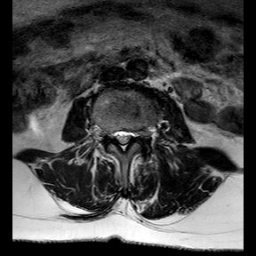CCS_normal: (120, 121, 126, 158)
LFS_stenosis: (133, 121, 140, 144)
LLS_stenosis: (126, 122, 133, 149)
RFS_stenosis: (104, 120, 112, 143)
RLS_stenosis: (112, 122, 120, 146)
